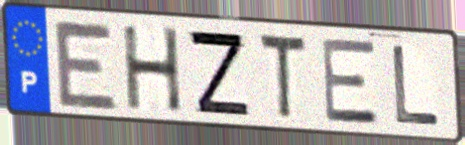E: (50, 16, 122, 114), (319, 38, 383, 127)
H: (119, 24, 186, 115)
L: (389, 42, 444, 129)
T: (256, 29, 309, 124)
Z: (185, 27, 254, 119)
